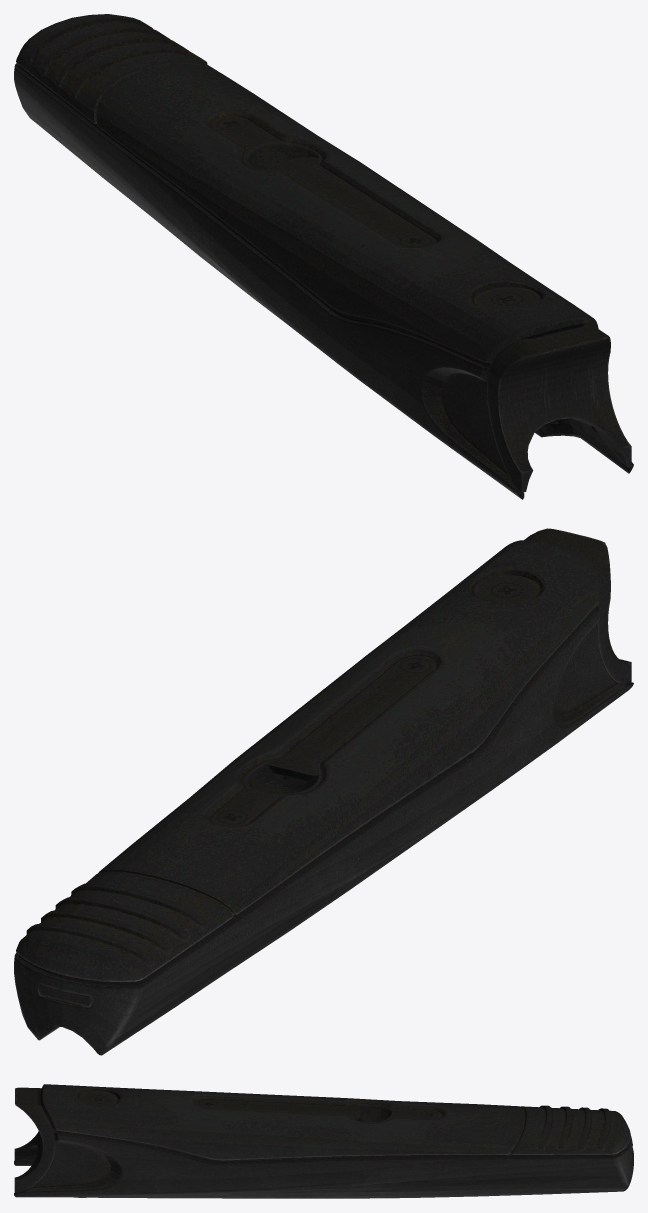
3 views of the same model, one above another, from view 1: azimuth 30°, elevation 25°; view 2: azimuth 150°, elevation 25°; view 3: azimuth 270°, elevation 25° (orthographic). The views are drawn at different scales.
Visible parts, largest first — view 1: TW_61f8024263dc1250e26eb029_PZ_Import; view 2: TW_61f8024263dc1250e26eb029_PZ_Import; view 3: TW_61f8024263dc1250e26eb029_PZ_Import.
Boxes of the visible parts, x1,y1,x2,y2 form: TW_61f8024263dc1250e26eb029_PZ_Import: (14, 14, 633, 499); TW_61f8024263dc1250e26eb029_PZ_Import: (14, 528, 633, 1055); TW_61f8024263dc1250e26eb029_PZ_Import: (14, 1084, 633, 1198).
Bounding box in the file's own units: 0.0223 × 0.1345 × 0.0232.
Materials: 1 (1 with a texture image).
